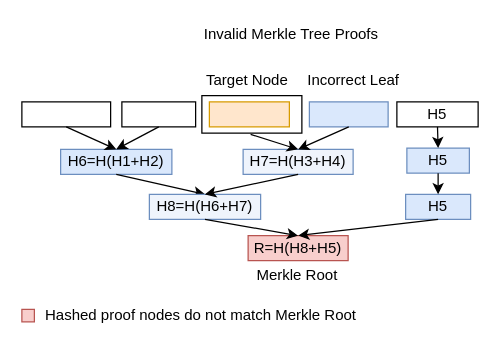
The diagram is 500 pixels wide and 349 high, and some of its shapes have lost their labels. Here are the shapes that lost their labels. From the top down, the box of each, then its label:
(21, 101, 111, 127): H1
(121, 101, 196, 127): H2
(208, 101, 289, 127): H3
(308, 101, 388, 127): H4?
